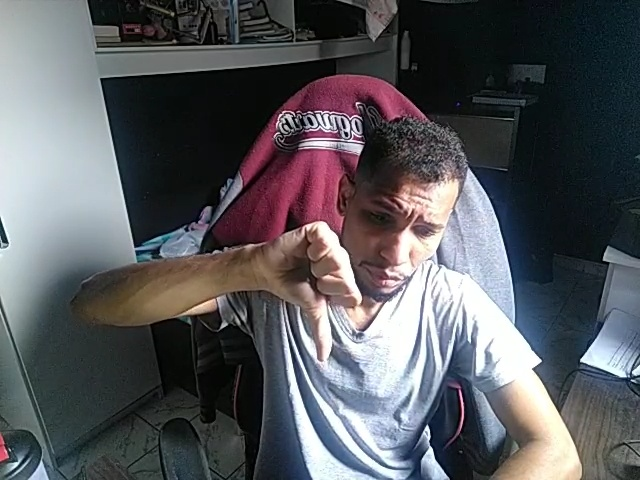não: (259, 217, 368, 367)
